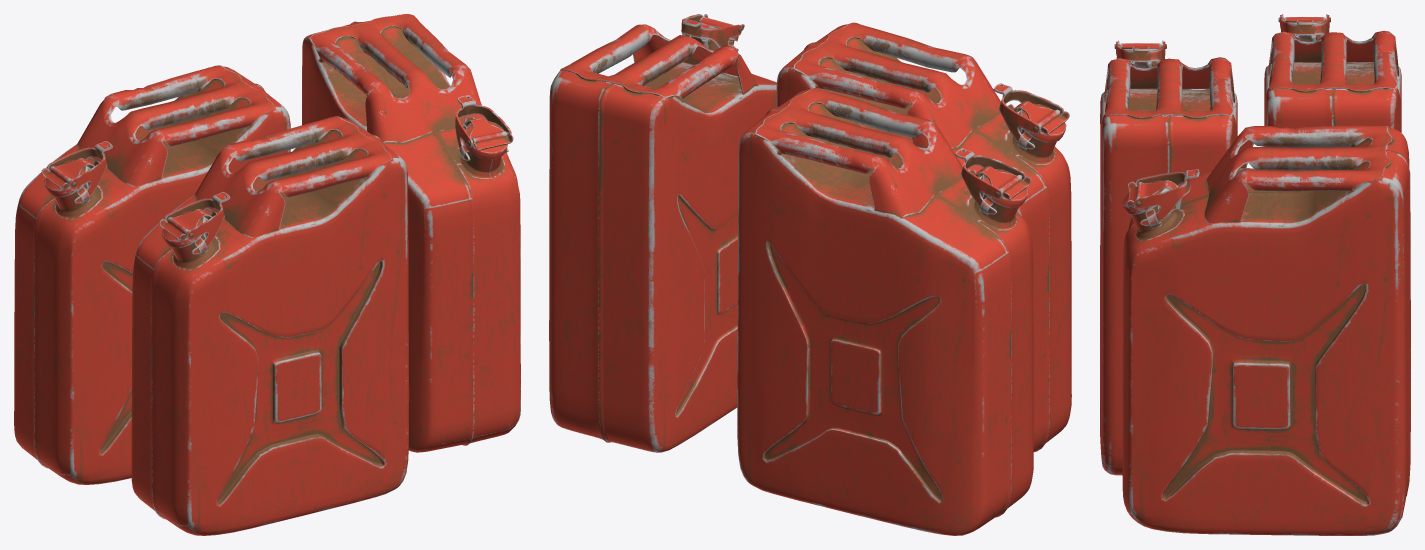
The model's file is Gasoline Tanks.fbx.
3 views of the same model, side by side, from view 1: azimuth 30°, elevation 25°; view 2: azimuth 150°, elevation 25°; view 3: azimuth 270°, elevation 25° (orthographic). The views are drawn at different scales.
Parts seen in each view (by area): view 1: Gas Can.001, Gas Can, Gas Can.002; view 2: Gas Can, Gas Can.002, Gas Can.001; view 3: Gas Can.002, Gas Can.001, Gas Can.
Part boxes in pixels (x1=…): Gas Can.001: x1=131, y1=116, x2=409, y2=535; Gas Can: x1=14, y1=65, x2=290, y2=484; Gas Can.002: x1=302, y1=14, x2=520, y2=452; Gas Can: x1=737, y1=88, x2=1033, y2=535; Gas Can.002: x1=549, y1=14, x2=776, y2=452; Gas Can.001: x1=776, y1=22, x2=1071, y2=451; Gas Can.002: x1=1122, y1=125, x2=1410, y2=535; Gas Can.001: x1=1100, y1=40, x2=1237, y2=475; Gas Can: x1=1264, y1=14, x2=1401, y2=147.
Size of the model in its own units: 38.79 by 32.33 by 24.08.
3 materials, 3 textured.
